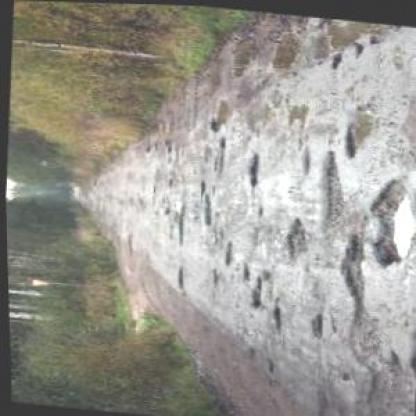pothole: (362, 170, 415, 265), (352, 340, 415, 414), (315, 147, 345, 238), (338, 100, 382, 159), (282, 210, 305, 260), (245, 273, 269, 307), (207, 96, 230, 130), (244, 150, 262, 187), (197, 190, 215, 223), (306, 309, 327, 337), (266, 298, 284, 326)
